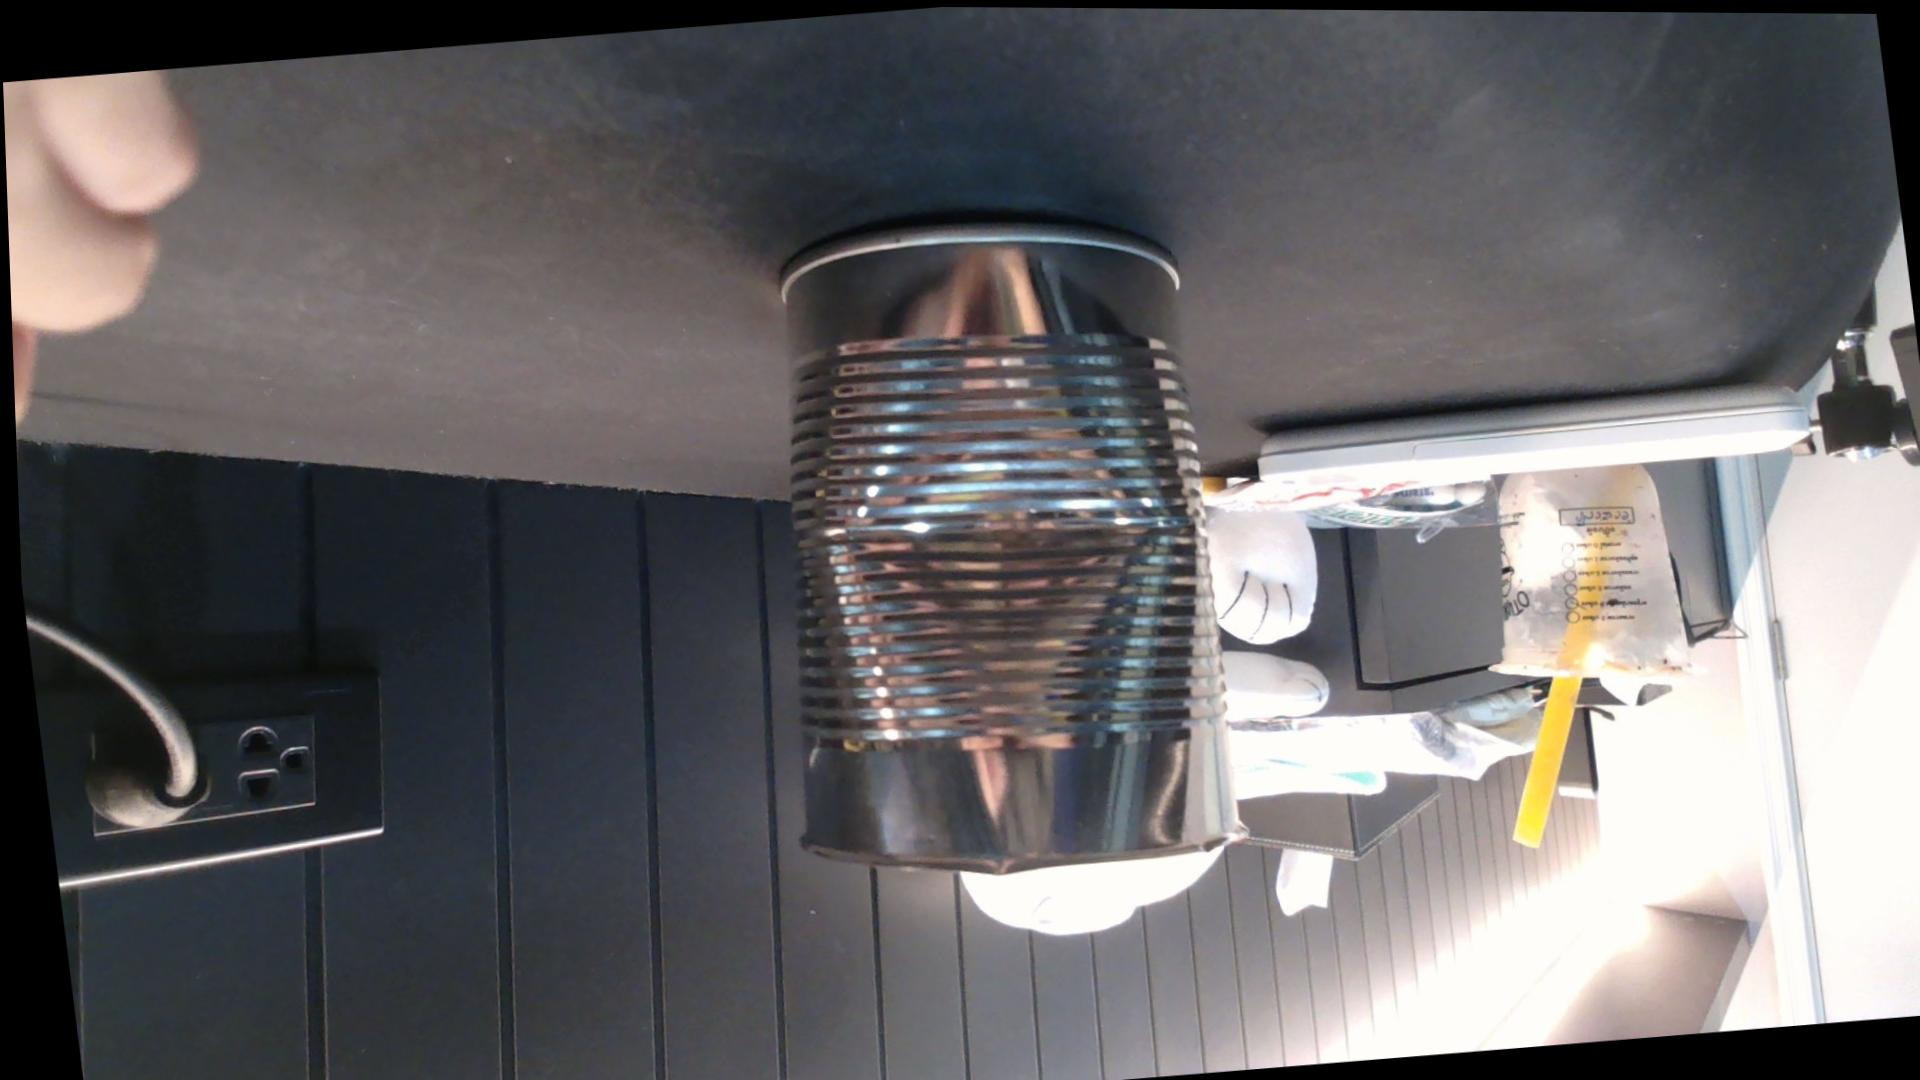metal: (783, 224, 1238, 934)
